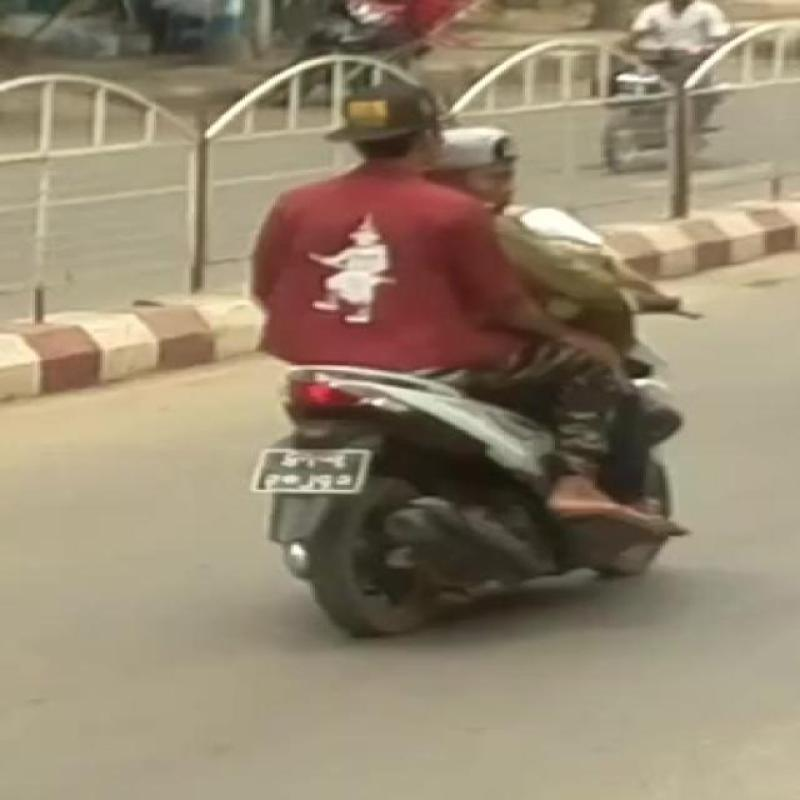nohelmet: (311, 78, 449, 174)
